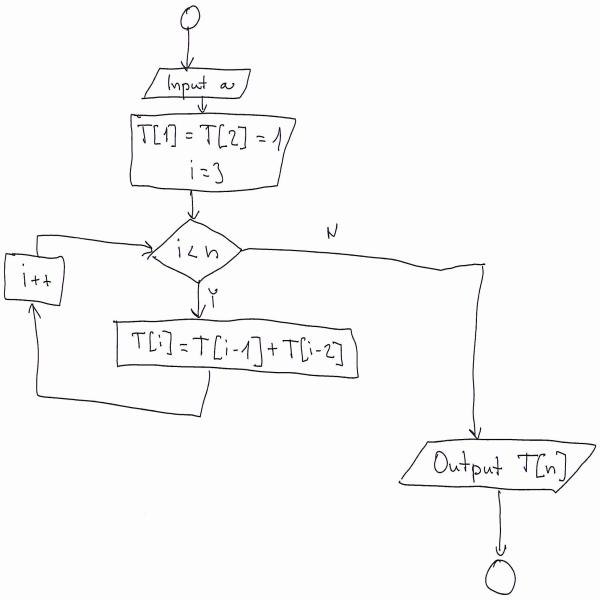arrow: (418, 238, 496, 442), (21, 298, 75, 421), (30, 226, 157, 261), (490, 490, 514, 560), (189, 276, 208, 318), (179, 32, 198, 69), (181, 192, 202, 221), (199, 98, 210, 113)
data: (398, 435, 598, 496), (139, 63, 255, 103)
decision: (143, 214, 247, 289)
process: (108, 315, 370, 385), (126, 109, 298, 196), (3, 249, 69, 304)
terminator: (488, 562, 519, 598), (179, 2, 201, 31)
text: (137, 117, 284, 188), (130, 329, 346, 369), (435, 452, 569, 484), (166, 74, 238, 96), (19, 255, 59, 293), (174, 238, 226, 266), (320, 223, 346, 242), (207, 286, 224, 308)
